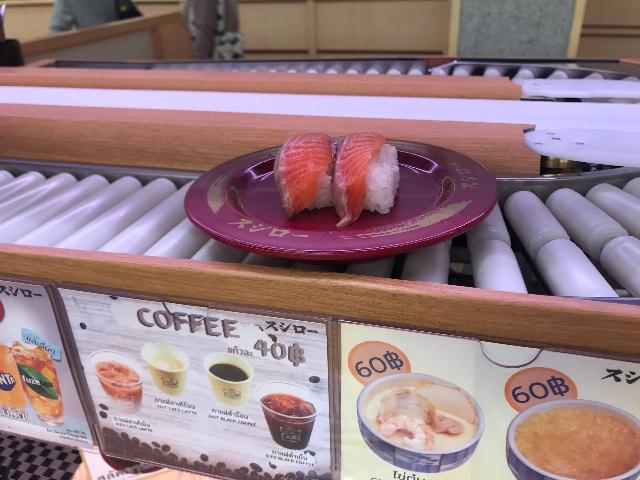janred: (187, 140, 525, 304)
